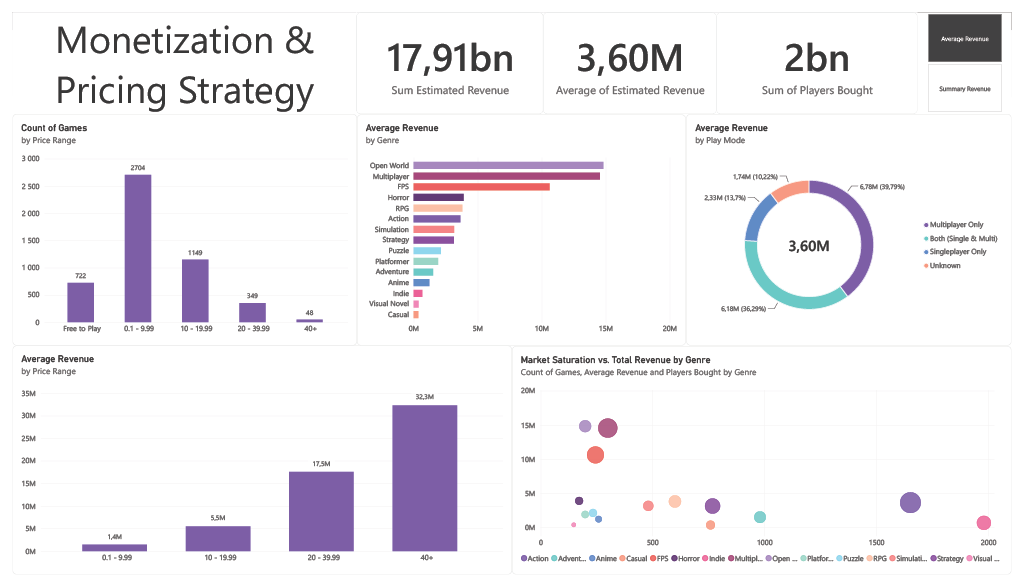

This screenshot's page, from the dashboard's own definition file:
{"tool":"powerbi","page":{"name":"Monetization & Pricing Strategy","canvas":[1920,1080],"ordinal":1},"visuals":[{"type":"textbox","box":[0,0,661.7,195],"z":0},{"type":"cardVisual","fields":{"Data":["Sum(steam.owners_min)"]},"box":[1352.7,0,386,195.3],"z":1000},{"type":"cardVisual","fields":{"Data":["Sum(steam.estimated_revenue)"]},"box":[661.3,0,358.7,195.3],"z":2000},{"type":"cardVisual","fields":{"Data":["Avg(steam.estimated_revenue)"]},"box":[1020,0,332.7,195.3],"z":3000},{"type":"columnChart","fields":{"Category":["steam.price_range"],"Y":["CountNonNull(steam.appid)"]},"box":[0,195,661.7,445],"z":4000},{"type":"lineStackedColumnComboChart","fields":{"Category":["steam.price_range"],"Y":["steam.Target_Revenue_Avg"]},"box":[0,640,960,440],"z":5000},{"type":"scatterChart","title":"Market Saturation vs. Total Revenue by Genre","fields":{"Series":["steam_genres_tag.tag_genre_name"],"Size":["Sum(steam.owners_min)"],"X":["steam.appid"],"Y":["steam.Target_Revenue_Avg"]},"box":[960,640.8,960,439.2],"z":6000},{"type":"donutChart","fields":{"Category":["steam_categories.play_mode"],"Y":["steam.Target_Revenue_Avg"]},"box":[1294.6,194.6,625.4,445.4],"z":7000},{"type":"slicer","fields":{"Values":["Parameter.Parameter"]},"box":[1738.6,1.4,181.4,191.4],"z":8000},{"type":"barChart","fields":{"Category":["steam_genres_tag.tag_genre_name"],"Series":["steam_genres_tag.tag_genre_name"],"Y":["steam.Target_Revenue_Avg"]},"box":[662.4,195.5,631.7,445],"z":9000}]}

Visuals, with their boxes in screenshot pixels (x1, y1, x2, y2), scaled from the page's 1920x1080 canvas onto the 1024x587 screenshot:
textbox: 0/0/353/106
cardVisual - Sum(steam.owners_min): 721/0/927/106
cardVisual - Sum(steam.estimated_revenue): 353/0/544/106
cardVisual - Avg(steam.estimated_revenue): 544/0/721/106
columnChart - steam.price_range x CountNonNull(steam.appid): 0/106/353/348
lineStackedColumnComboChart - steam.price_range x steam.Target_Revenue_Avg: 0/348/512/586
"Market Saturation vs. Total Revenue by Genre" scatterChart: 512/348/1023/586
donutChart - steam_categories.play_mode x steam.Target_Revenue_Avg: 690/106/1023/348
slicer - Parameter.Parameter: 927/1/1023/105
barChart - steam_genres_tag.tag_genre_name x steam_genres_tag.tag_genre_name: 353/106/690/348
